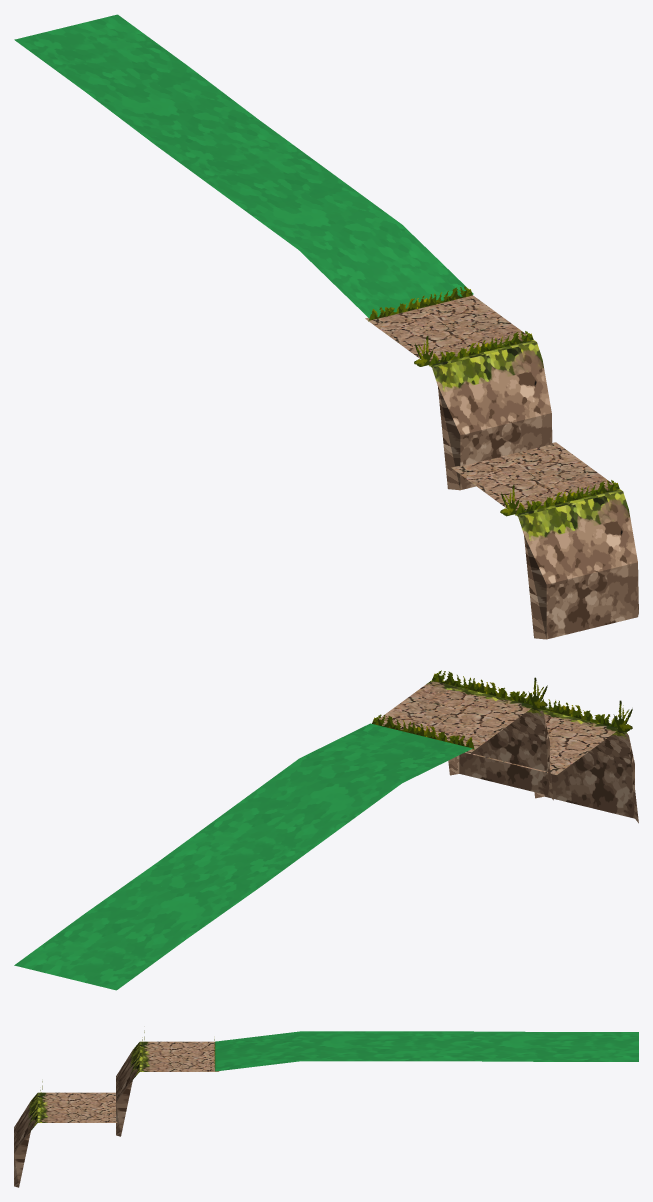
File: terreno_03.FBX
3 views of the same model, one above another, from view 1: azimuth 30°, elevation 25°; view 2: azimuth 150°, elevation 25°; view 3: azimuth 270°, elevation 25° (orthographic). The views are drawn at different scales.
Parts seen in each view (by area): view 1: Terreno015; view 2: Terreno015; view 3: Terreno015.
Boxes of the visible parts, box(x1,y1,x2,y2) form: Terreno015: box(14, 14, 638, 639); Terreno015: box(14, 670, 638, 990); Terreno015: box(14, 1030, 638, 1187).
Bounding box in the file's own units: 2.31 × 17.44 × 4.14.
2 materials, 2 textured.
